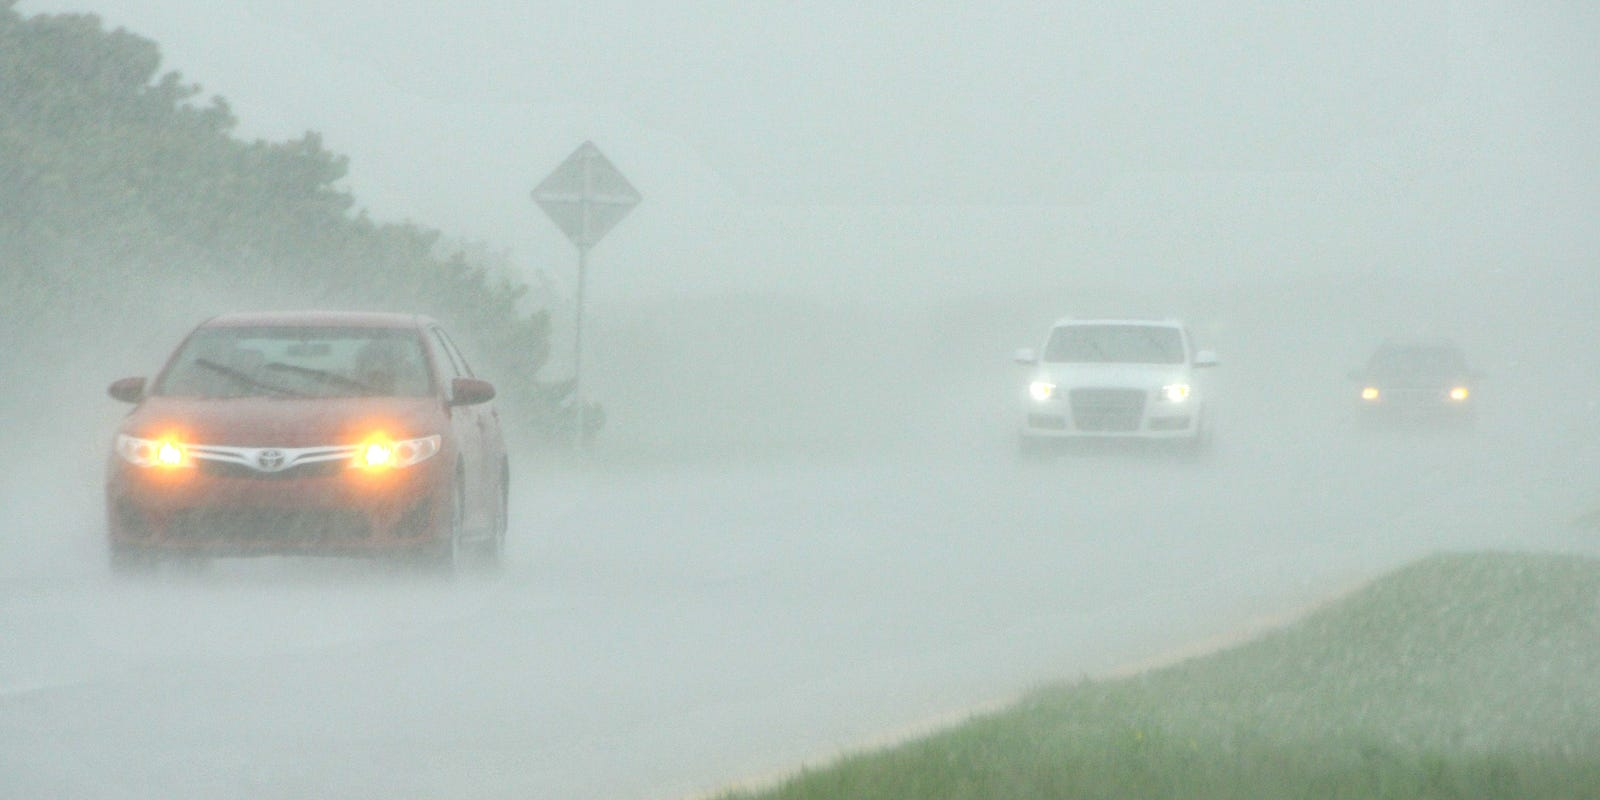car: (106, 312, 515, 565), (1012, 317, 1214, 448), (1350, 338, 1477, 431)
